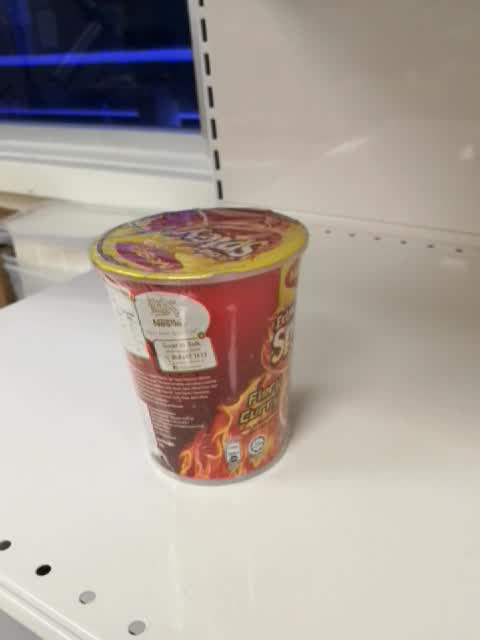maggi: (87, 205, 309, 488)
